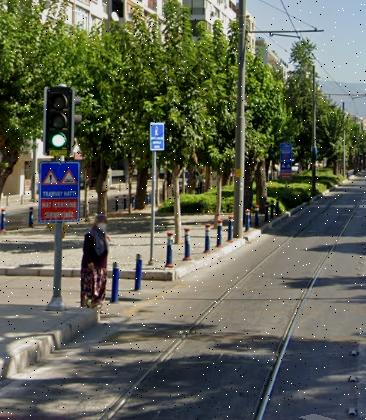greenlight: (42, 84, 75, 155)
